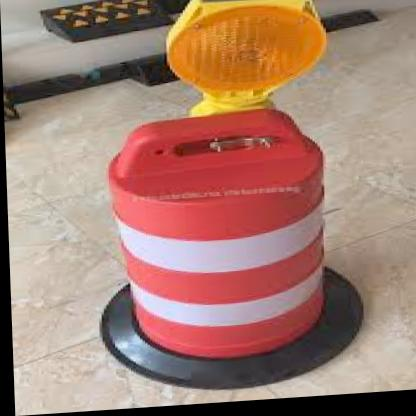obstacle: (93, 114, 344, 370)
